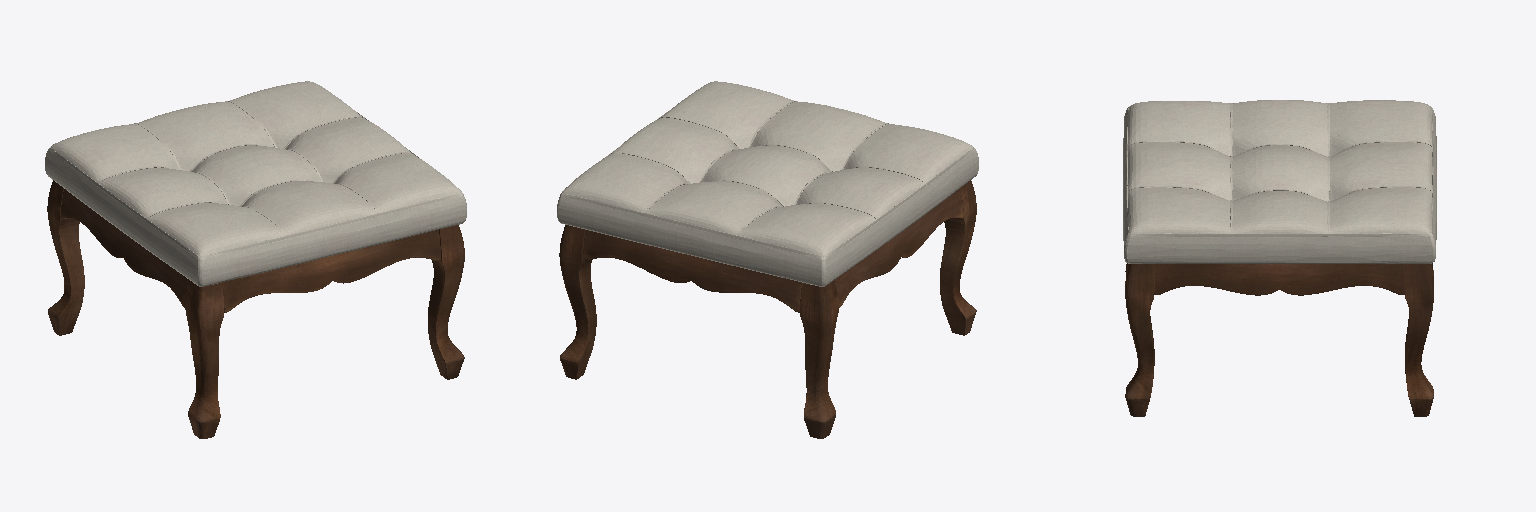
3 views of the same model, side by side, from view 1: azimuth 30°, elevation 25°; view 2: azimuth 150°, elevation 25°; view 3: azimuth 270°, elevation 25° (orthographic).
Parts seen in each view (by area): view 1: not_clear_obj_1_v6, not_clear_obj_0_v6; view 2: not_clear_obj_1_v6, not_clear_obj_0_v6; view 3: not_clear_obj_1_v6, not_clear_obj_0_v6.
Part boxes in pixels (x1,y1,x2,y2): not_clear_obj_1_v6: (45, 81, 466, 286); not_clear_obj_0_v6: (47, 180, 464, 438); not_clear_obj_1_v6: (557, 81, 978, 286); not_clear_obj_0_v6: (559, 180, 976, 438); not_clear_obj_1_v6: (1123, 100, 1436, 263); not_clear_obj_0_v6: (1125, 263, 1433, 416).
Size of the model in its own units: 60.95 by 41.91 by 60.94.
Materials: 3 (3 with a texture image).